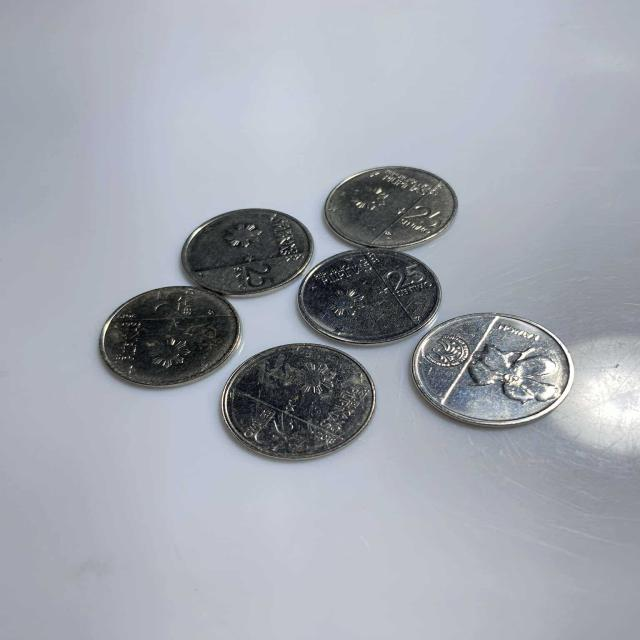25Cent_New_Back: (458, 333, 571, 427)
25Cent_New_Front: (248, 414, 302, 452), (388, 262, 427, 290), (405, 204, 447, 229), (152, 288, 184, 316), (240, 263, 278, 286)
